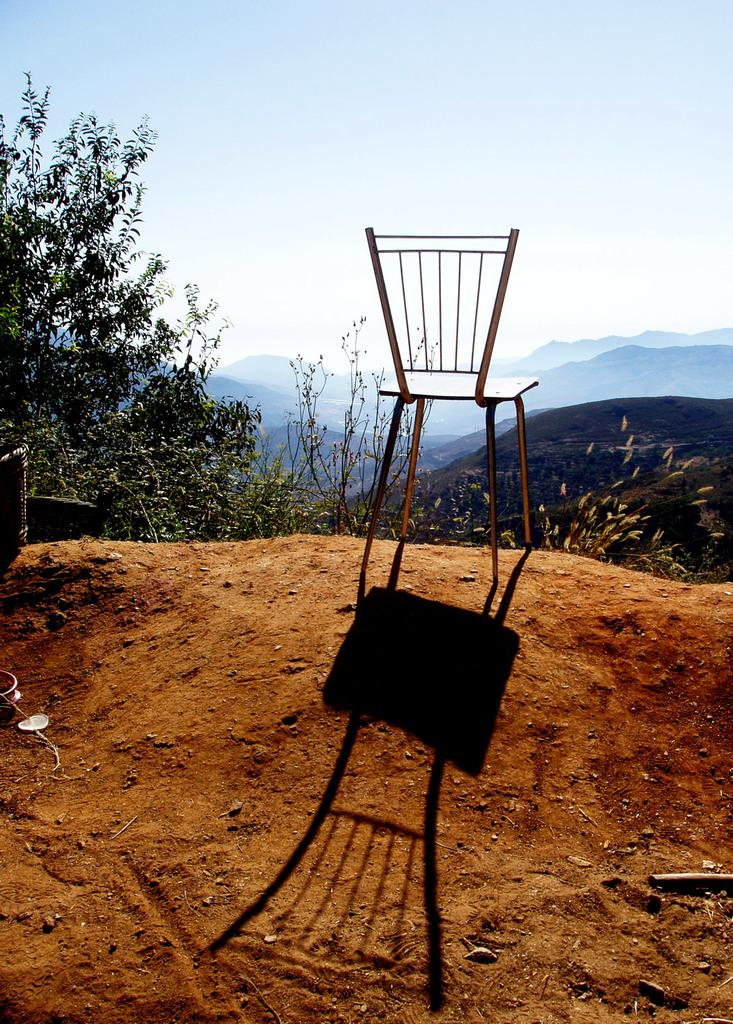Chair: (334, 218, 553, 637)
